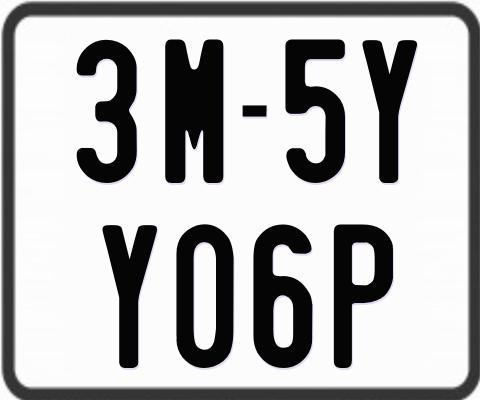0: (174, 224, 232, 368)
3: (77, 37, 138, 181)
5: (283, 38, 344, 187)
6: (251, 225, 314, 368)
M: (165, 38, 229, 185)
P: (332, 223, 395, 373)
Y: (101, 222, 160, 371), (360, 39, 419, 182)
